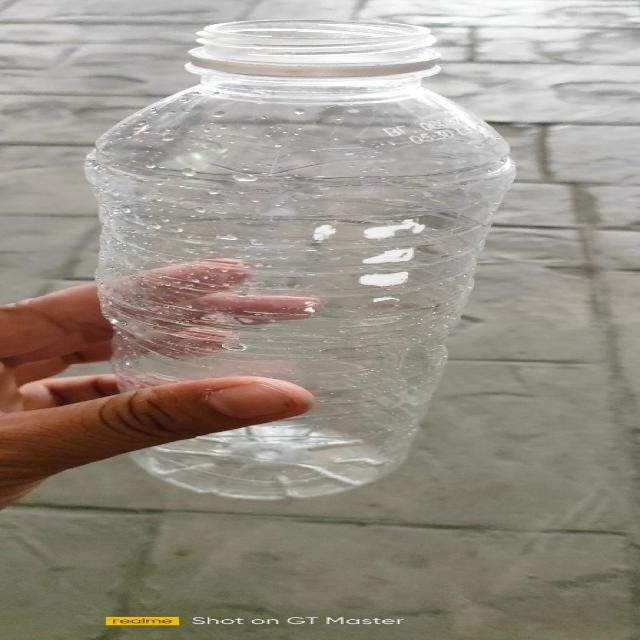plastic_bottle: (84, 18, 515, 500)
